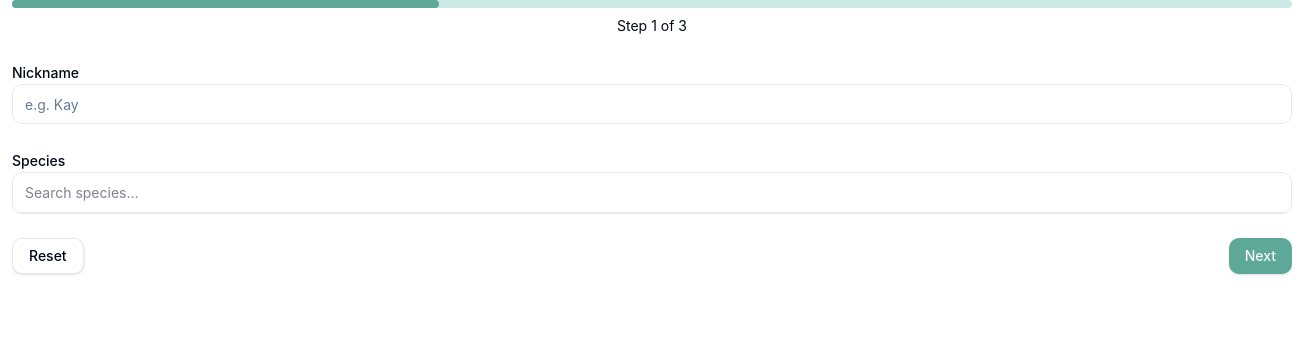
Test case: AddPlantForm validation › shows errors when required fields are missing
This screenshot has width=1304, height=348.
Click the button "Next" at (1260, 256), box [1229,238,1292,274]
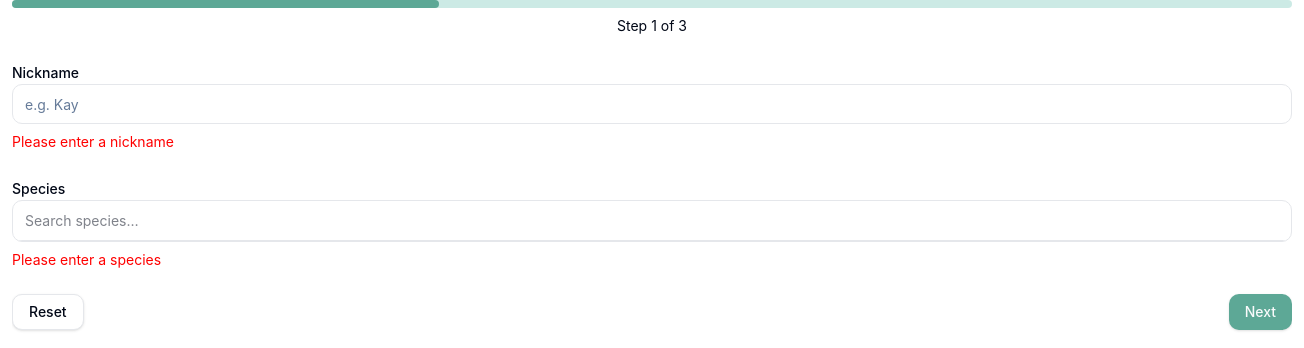
Now the text "Please enter a nickname" is shown, box [12,133,174,150]
Now the text "Please enter a species" is shown, box [12,251,161,268]
